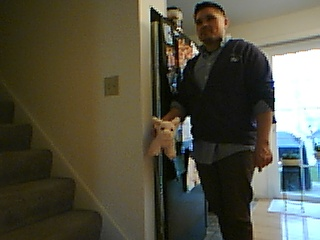piggy: (146, 116, 181, 160)
